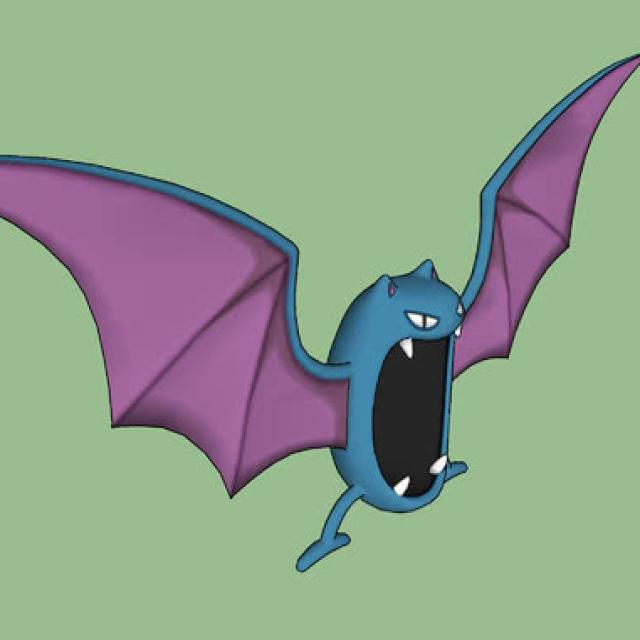Golbat: (194, 218, 536, 570)
